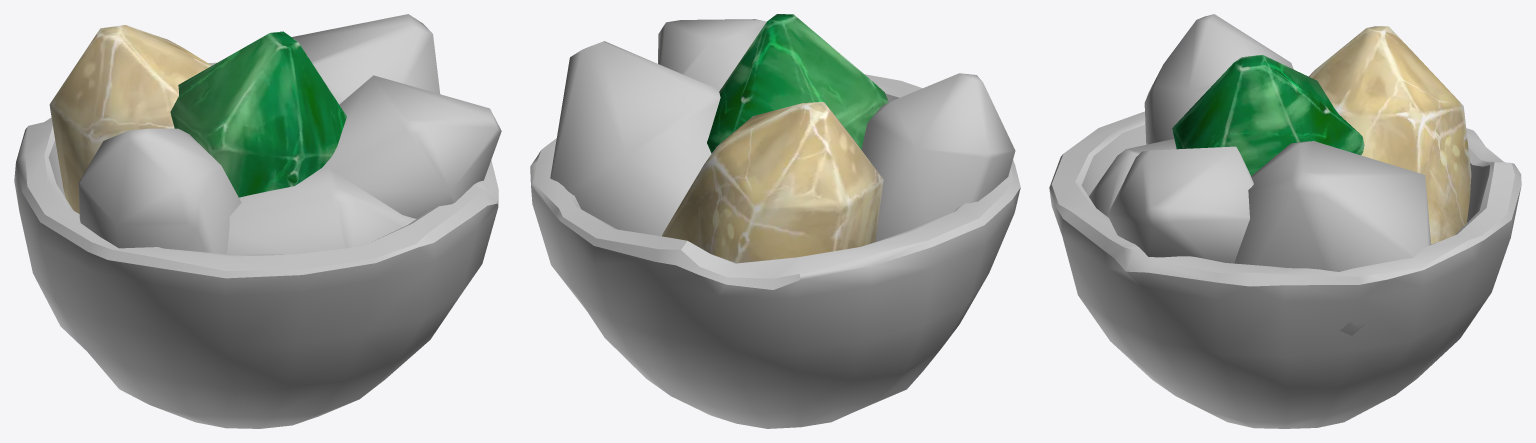
3 renders of one model, left to right at view 1: azimuth 30°, elevation 25°; view 2: azimuth 150°, elevation 25°; view 3: azimuth 270°, elevation 25°, orthographic. The views are drawn at different scales.
Visible parts, largest first — view 1: SM_Dec_Garou_Bowl_Gemstone_LOD0; view 2: SM_Dec_Garou_Bowl_Gemstone_LOD0; view 3: SM_Dec_Garou_Bowl_Gemstone_LOD0.
Part boxes in pixels (<box>): SM_Dec_Garou_Bowl_Gemstone_LOD0: <box>14,14,501,428</box>; SM_Dec_Garou_Bowl_Gemstone_LOD0: <box>530,14,1020,428</box>; SM_Dec_Garou_Bowl_Gemstone_LOD0: <box>1049,14,1521,428</box>.
Size of the model in its own units: 0.34 by 0.2951 by 0.353.
